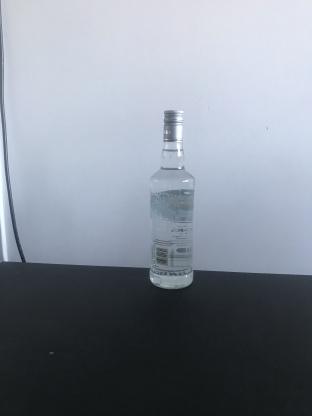nakretka: (162, 107, 184, 143)
